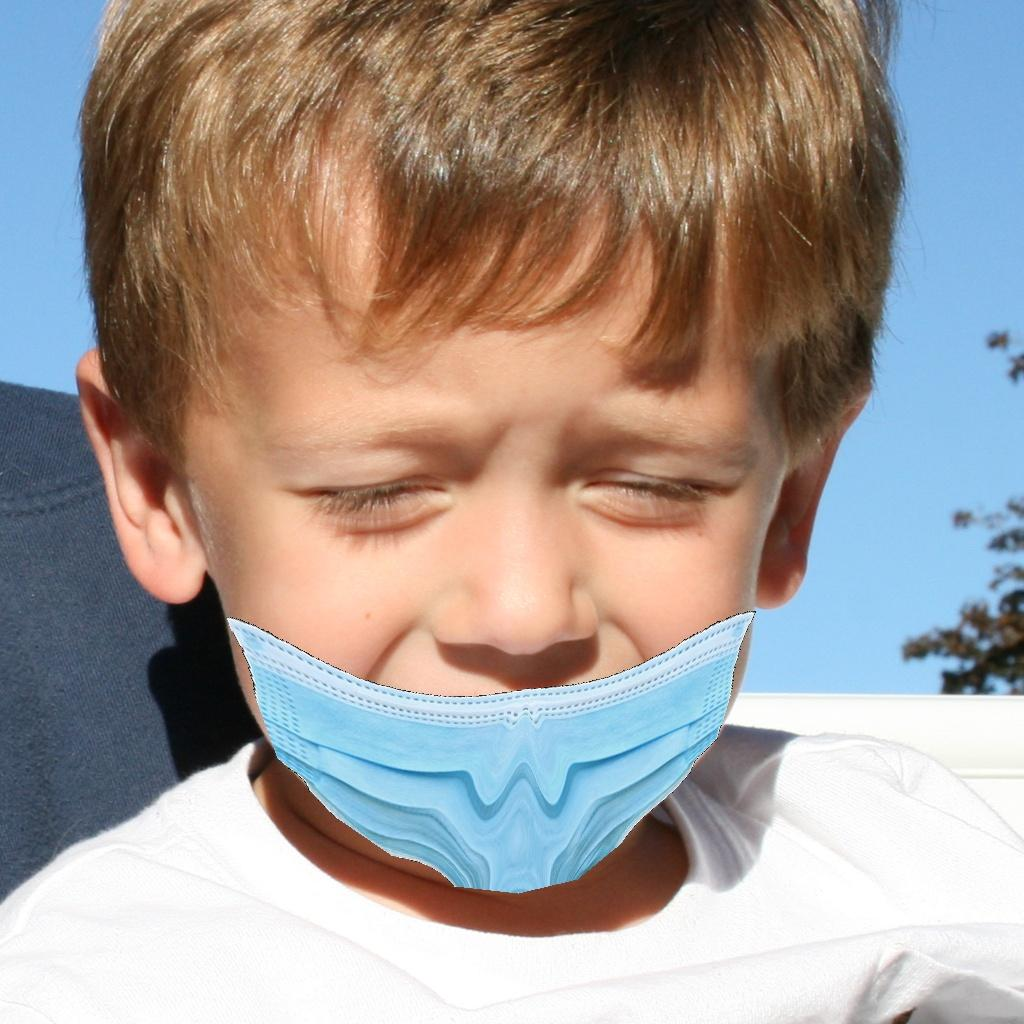Máscara Incorreta: (186, 236, 783, 894)
